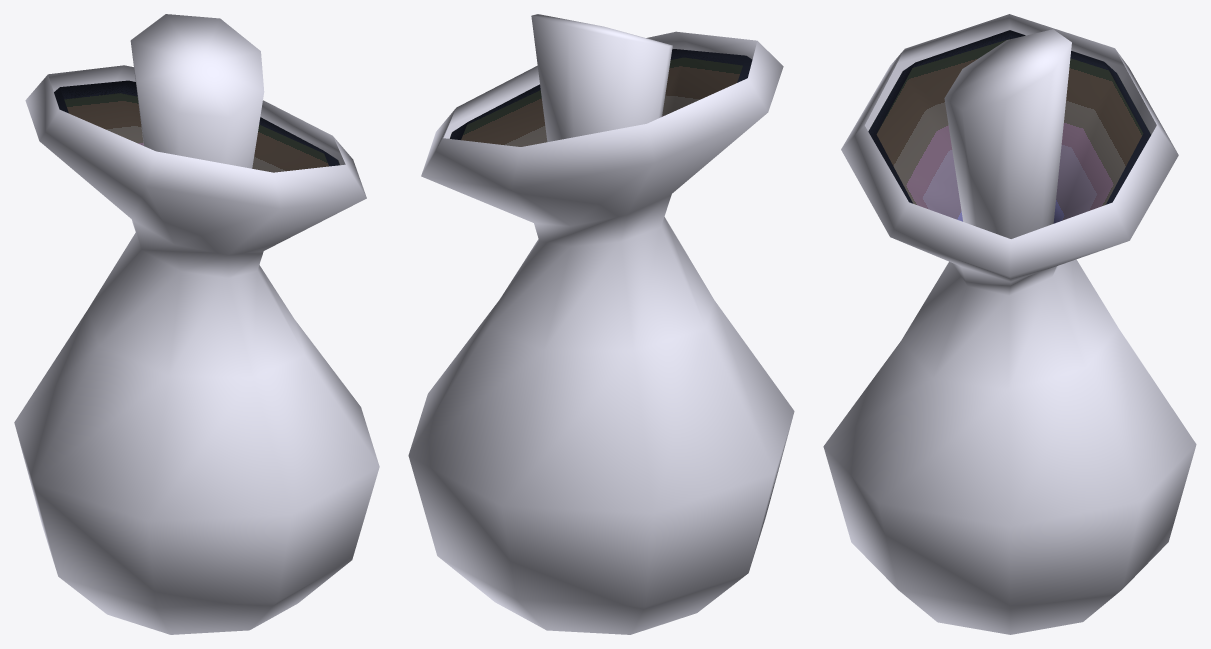
The model's file is VIGOR.obj.
3 views of the same model, side by side, from view 1: azimuth 30°, elevation 25°; view 2: azimuth 150°, elevation 25°; view 3: azimuth 270°, elevation 25° (orthographic). The views are drawn at different scales.
Parts seen in each view (by area): view 1: vigor; view 2: vigor; view 3: vigor.
Part boxes in pixels (x1=…): vigor: x1=14, y1=14, x2=379, y2=634; vigor: x1=408, y1=14, x2=794, y2=634; vigor: x1=823, y1=14, x2=1196, y2=634.
Size of the model in its own units: 34.4 by 58.33 by 34.28.
